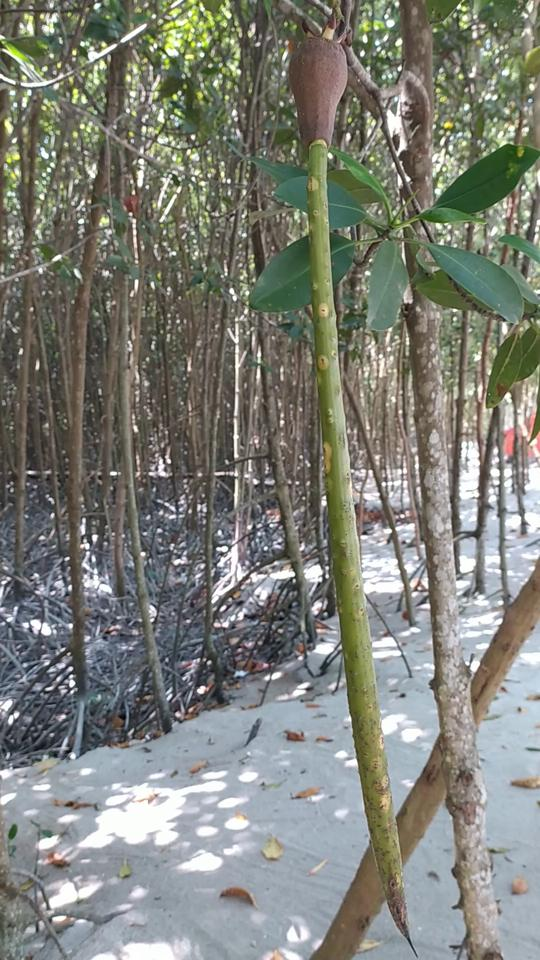setengah matang: (275, 11, 433, 958)
